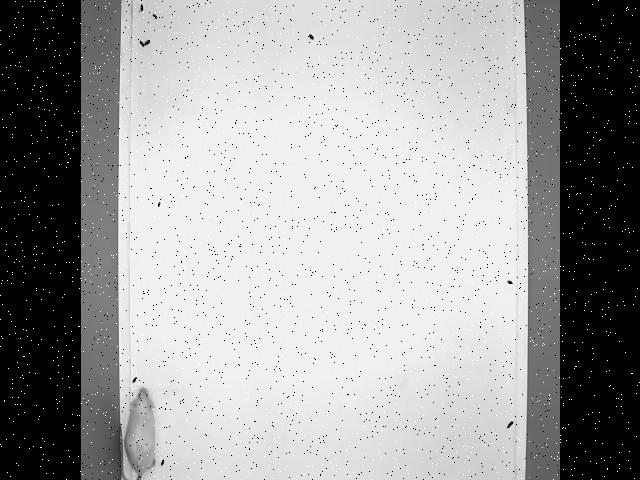Tikus: (119, 386, 155, 480)
